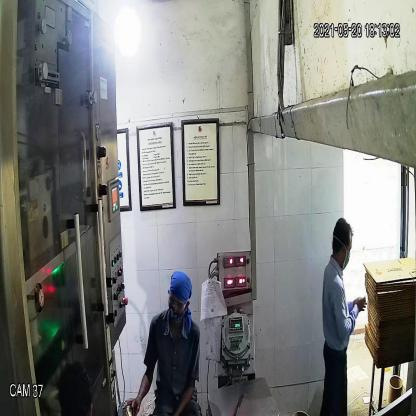goggles: (166, 291, 188, 313)
